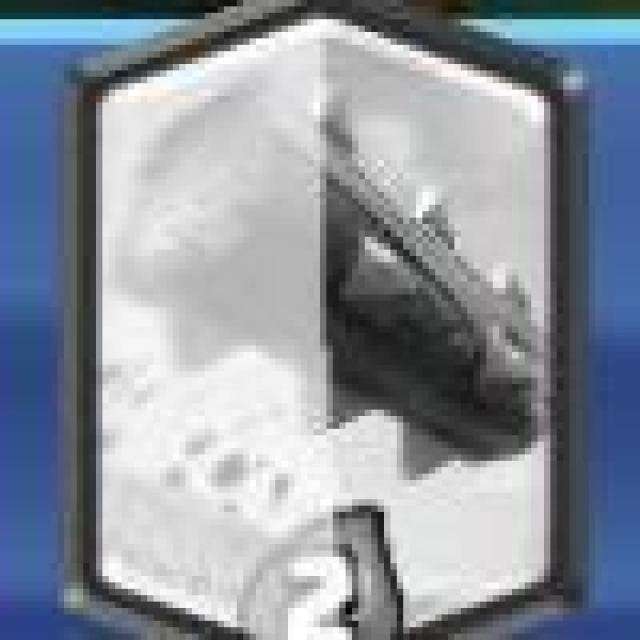Log: (65, 8, 578, 636)
